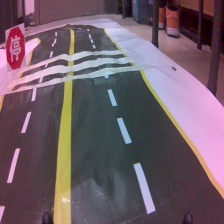stop: (5, 23, 26, 71)
